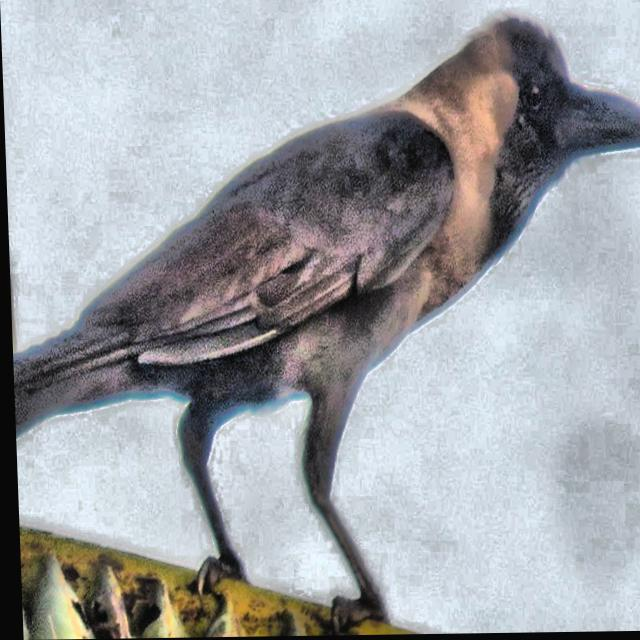crow: (0, 8, 640, 640)
